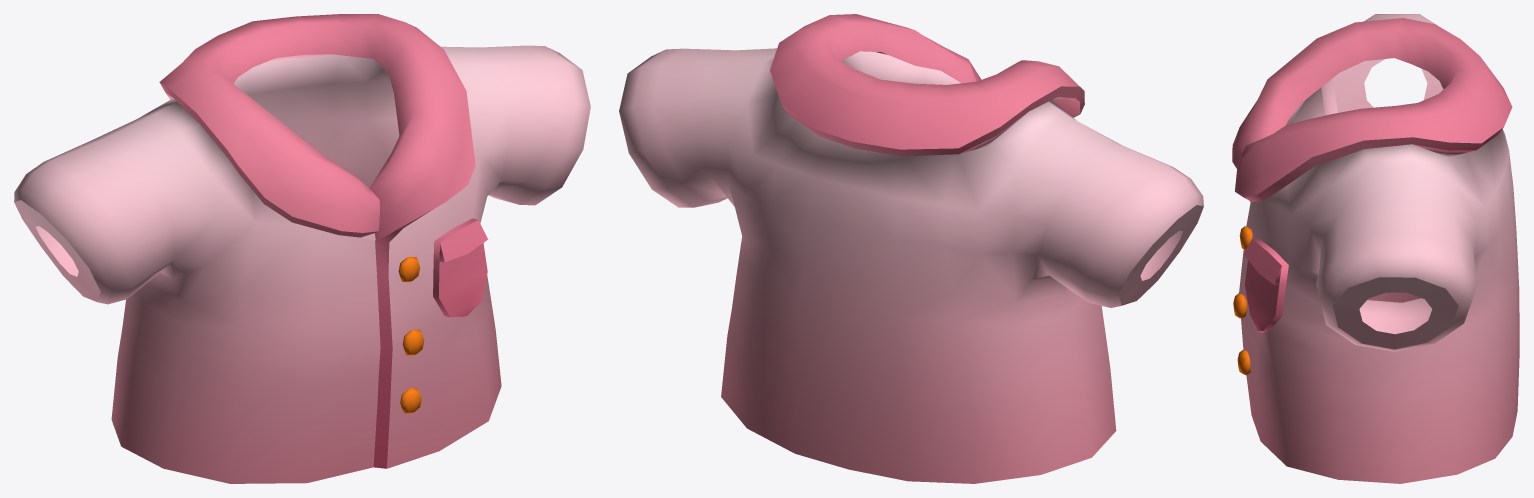
The model's file is Outwear_51.glb.
3 views of the same model, side by side, from view 1: azimuth 30°, elevation 25°; view 2: azimuth 150°, elevation 25°; view 3: azimuth 270°, elevation 25° (orthographic). The views are drawn at different scales.
Visible parts, largest first — view 1: Outwear_51; view 2: Outwear_51; view 3: Outwear_51.
Boxes of the visible parts, x1,y1,x2,y2 form: Outwear_51: [14, 14, 590, 483]; Outwear_51: [619, 14, 1203, 483]; Outwear_51: [1232, 14, 1519, 483].
Bounding box in the file's own units: 0.416 × 0.2688 × 0.2026.
Materials: 1 (1 with a texture image).
